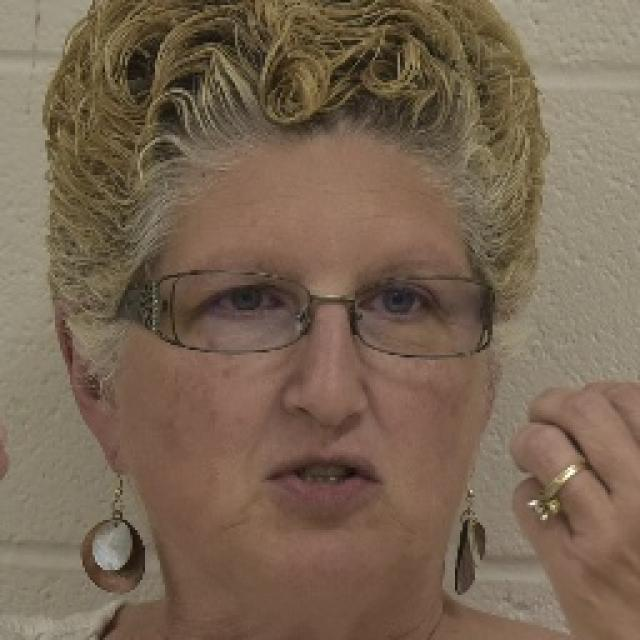earlobe: (52, 297, 130, 478)
